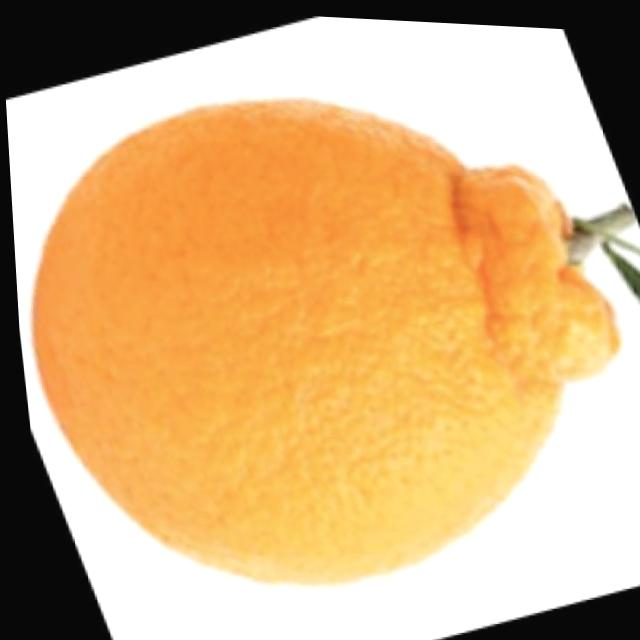Orange: (3, 64, 640, 609)
